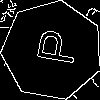P: (27, 25, 79, 67)
